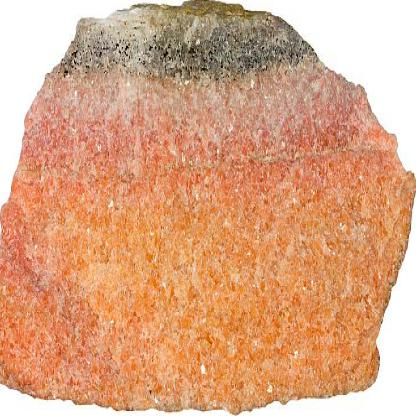Metamorphic_Marble: (1, 0, 413, 415)
